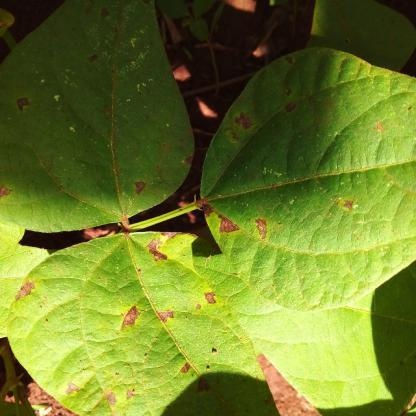Beans_Angular_LeafSpot: (200, 46, 412, 294), (16, 230, 276, 413), (2, 2, 192, 221)
